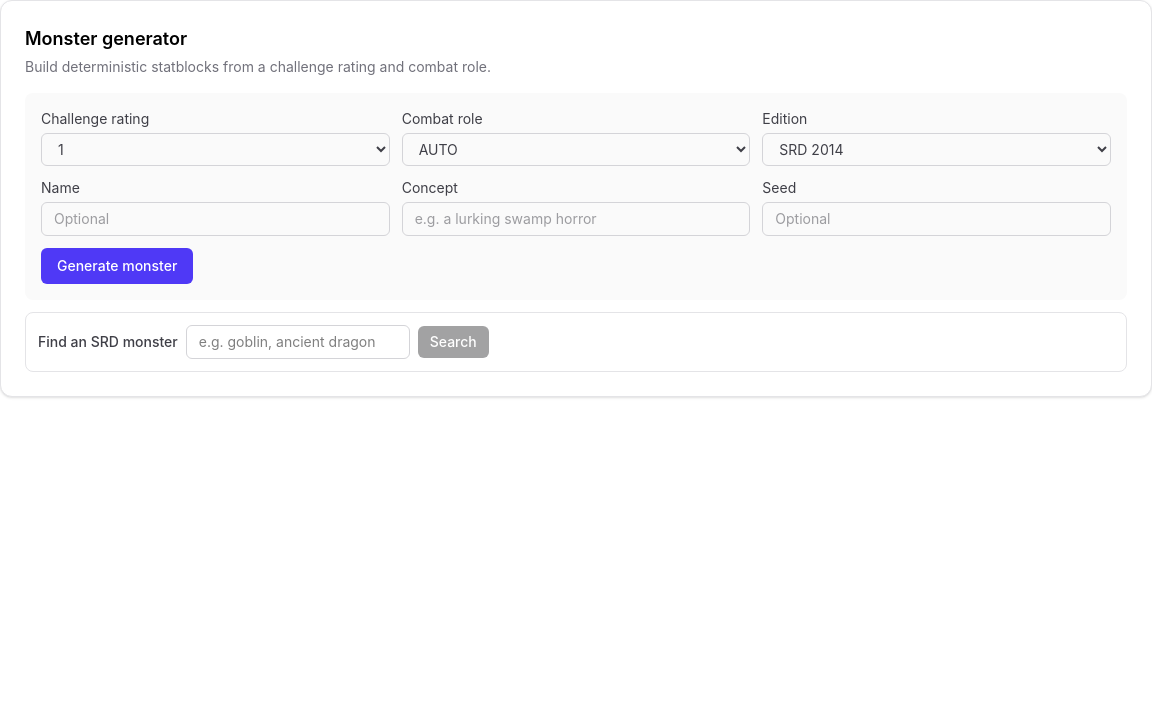
Scenario: MonsterGenerator › generates a statblock and renders it
Type "Gravetusk" into the field labelled "Name" at [215, 219], box [41,202,390,236]
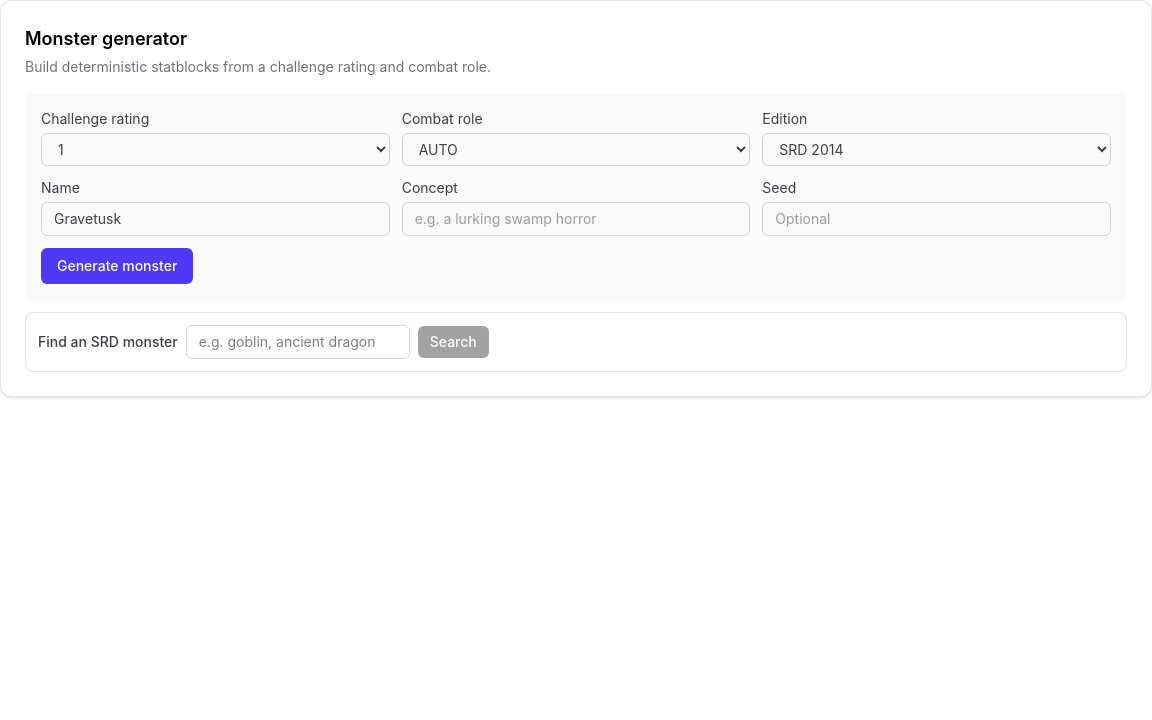
Type "a lurking horror" into the field labelled "Concept" at [576, 219], box [402,202,750,236]
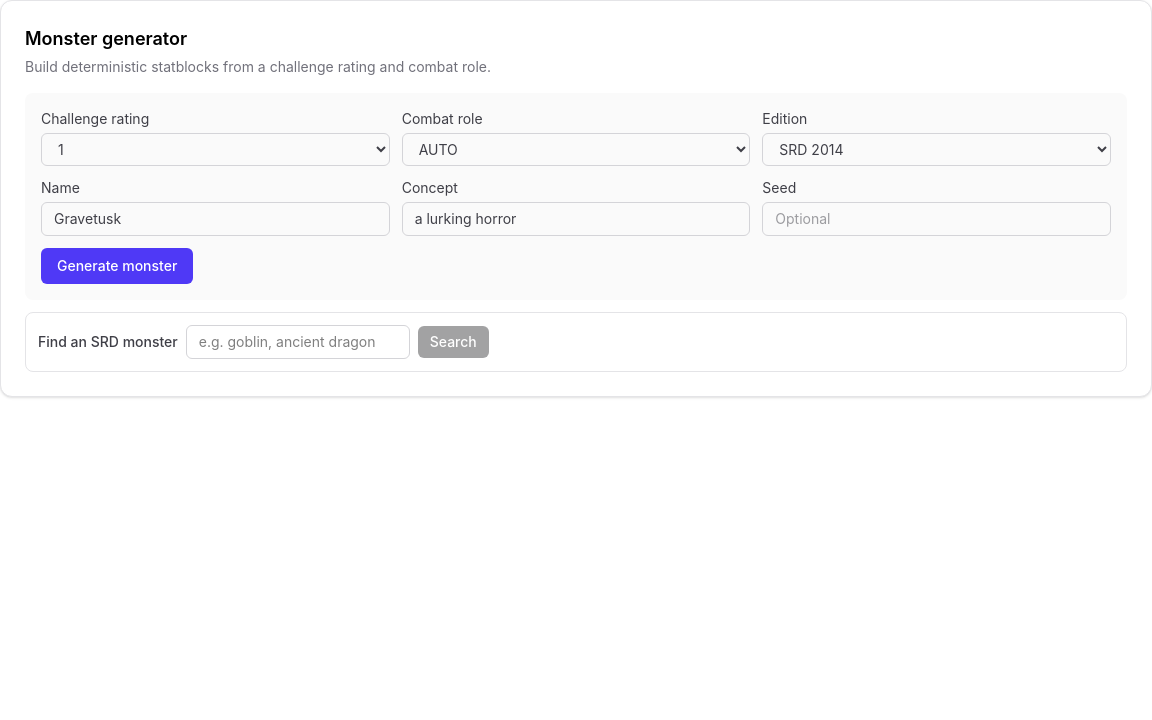
Click the button "Generate monster" at [117, 266], box [41,248,193,284]
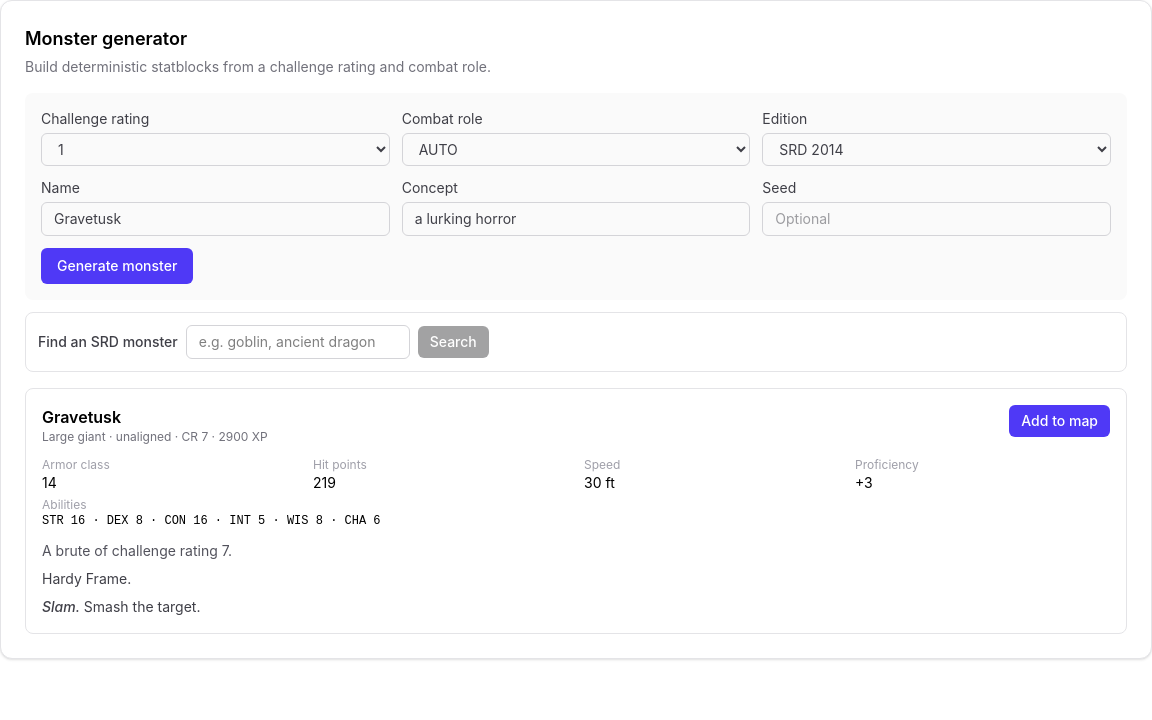
Expected: the element with test id "monster-statblock" shows "Gravetusk", [42,407,121,427]
